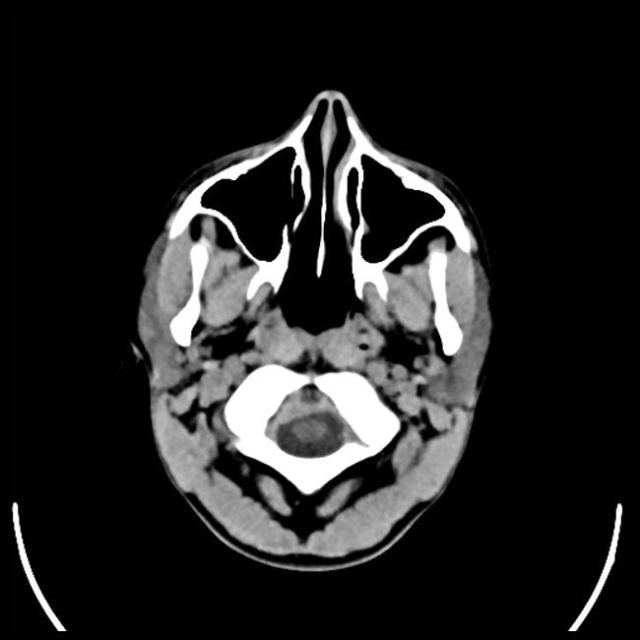lesion: (129, 86, 499, 574)
